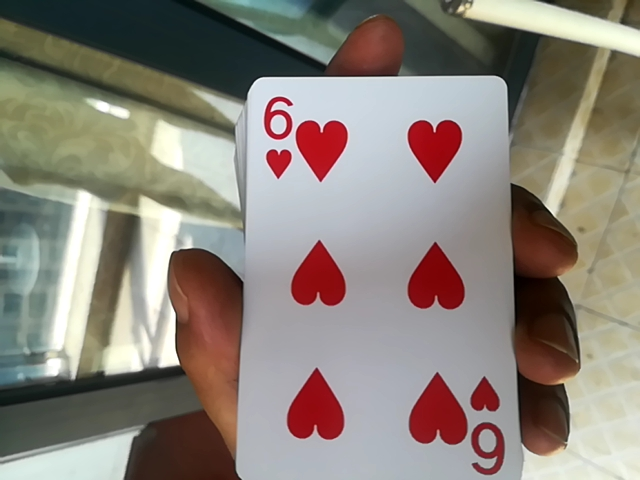hx 6: (218, 63, 518, 471)
